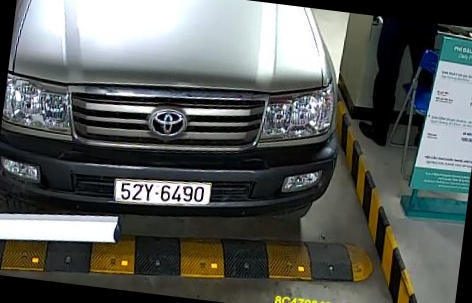plate: (111, 165, 214, 216)
